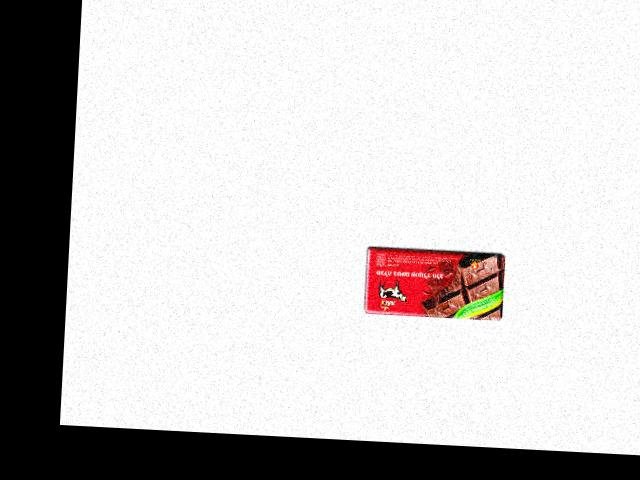chocolate: (359, 239, 506, 323)
